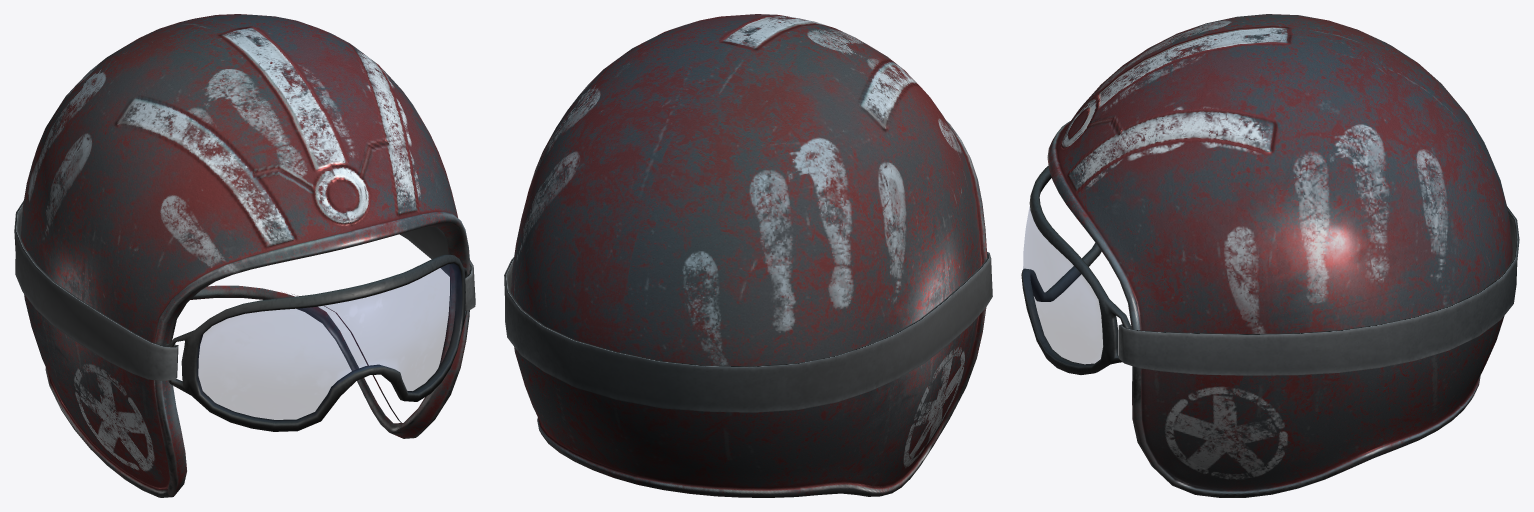
Rendered from racing_pilot_helmet.glb.
3 renders of one model, left to right at view 1: azimuth 30°, elevation 25°; view 2: azimuth 150°, elevation 25°; view 3: azimuth 270°, elevation 25°, orthographic. The views are drawn at different scales.
Visible parts, largest first — view 1: HelmetMesh; view 2: HelmetMesh; view 3: HelmetMesh.
Boxes of the visible parts, <box> form: HelmetMesh: <box>14,14,475,497</box>; HelmetMesh: <box>504,14,992,497</box>; HelmetMesh: <box>1021,14,1519,497</box>.
Size of the model in its own units: 0.2132 by 0.2311 by 0.2585.
2 materials, 2 textured.
